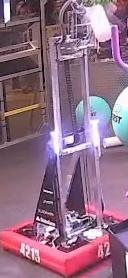red_number: (18, 240, 46, 265), (94, 239, 112, 260)
